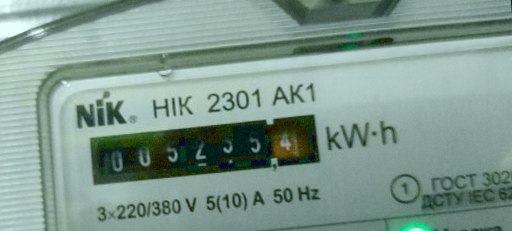0: (108, 146, 125, 172), (135, 142, 152, 167)
2: (190, 133, 208, 161)
3: (217, 128, 235, 154)
4: (274, 123, 295, 154)
5: (244, 125, 263, 154), (163, 137, 179, 163)
screen: (74, 102, 329, 194)
